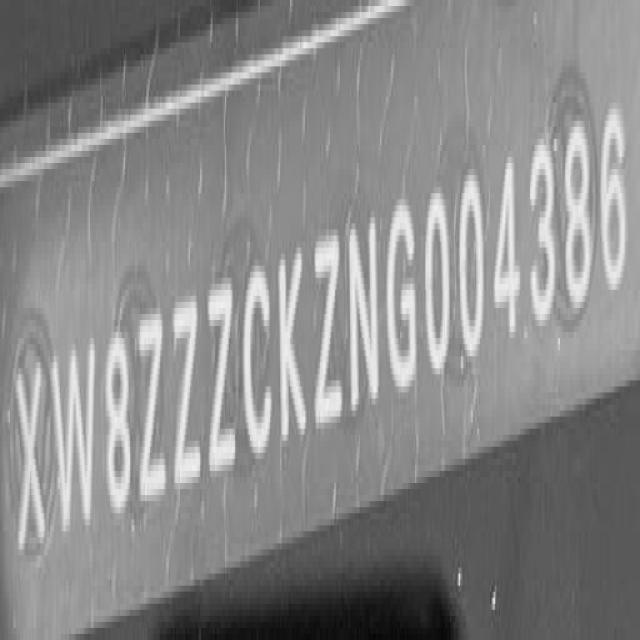0: (420, 176, 455, 386), (452, 164, 486, 375)
3: (526, 126, 561, 334)
4: (490, 146, 527, 354)
6: (598, 97, 634, 302)
8: (562, 108, 597, 320), (104, 326, 136, 526)
C: (242, 253, 277, 468)
G: (387, 187, 423, 404)
K: (276, 238, 309, 452)
N: (345, 206, 385, 423)
W: (48, 333, 101, 544)
X: (14, 342, 50, 555)
Z: (172, 286, 208, 498), (312, 220, 346, 441), (206, 277, 240, 483), (138, 302, 171, 511)
